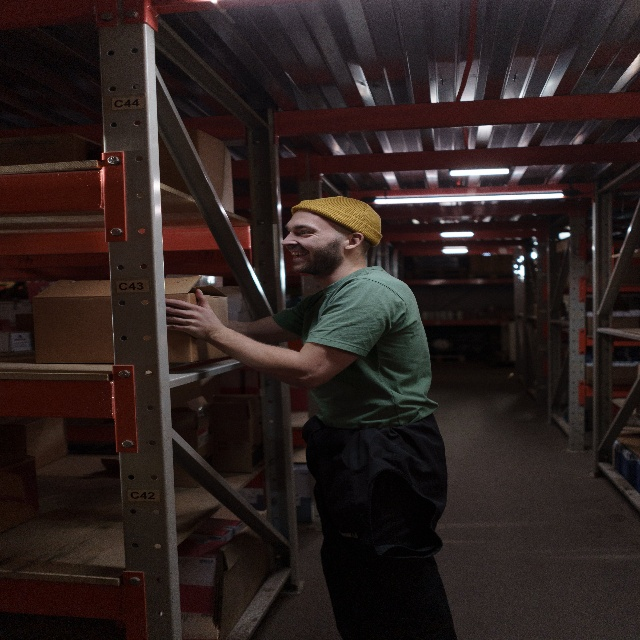Sin_guantes: (163, 284, 216, 344)
